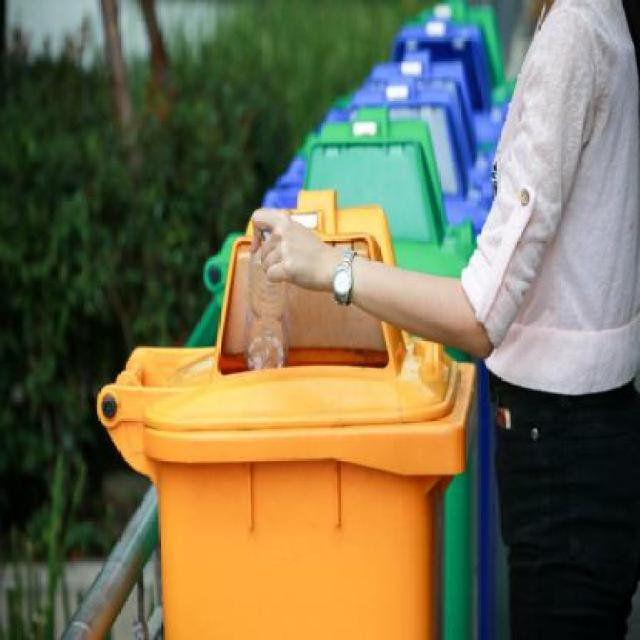garbage container: (94, 314, 490, 640)
